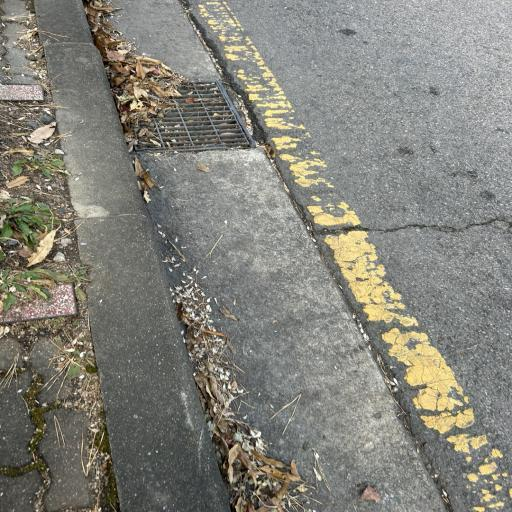debris: (117, 82, 184, 150)
drain: (115, 81, 255, 152)
